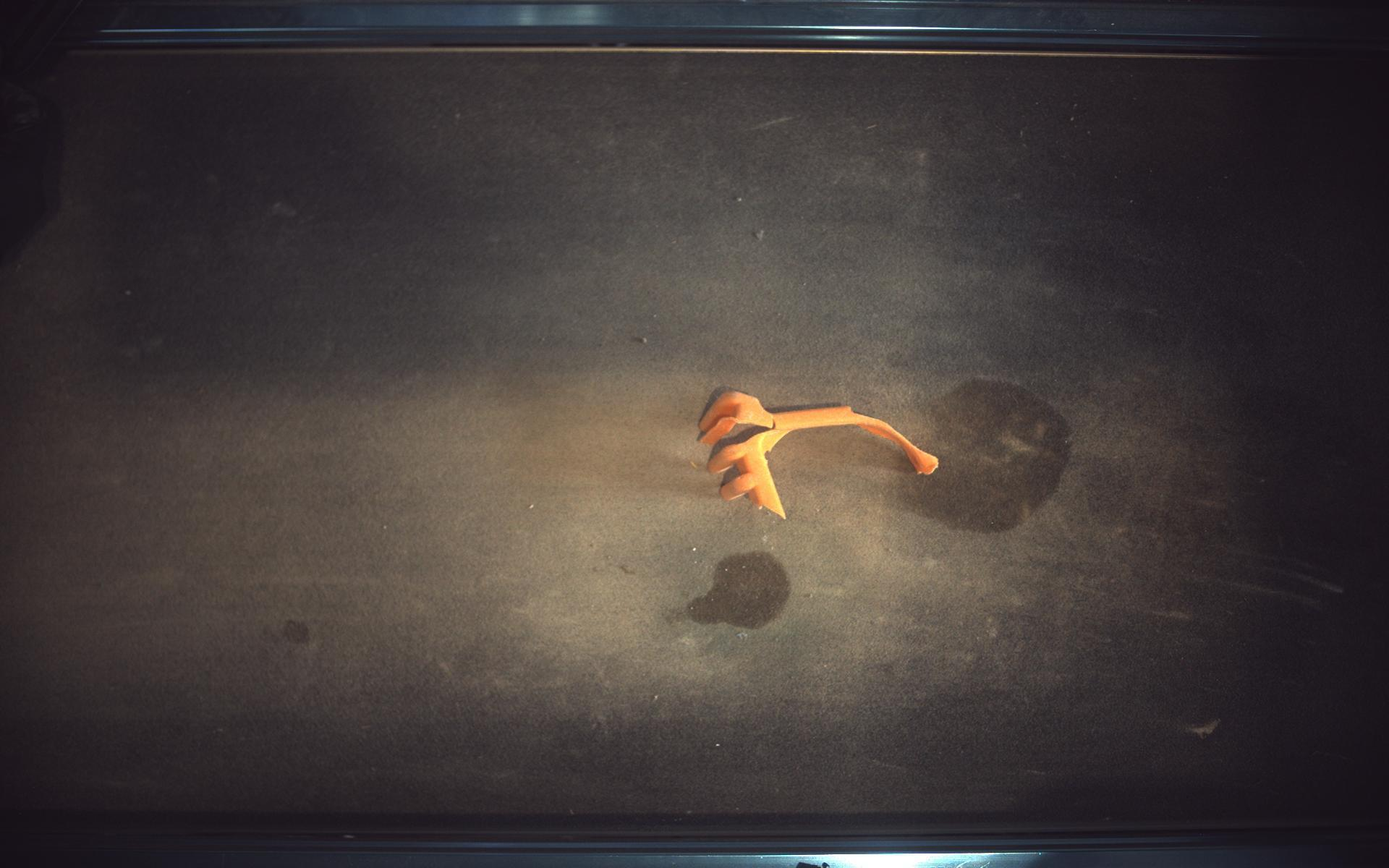general_w: (700, 388, 940, 519)
